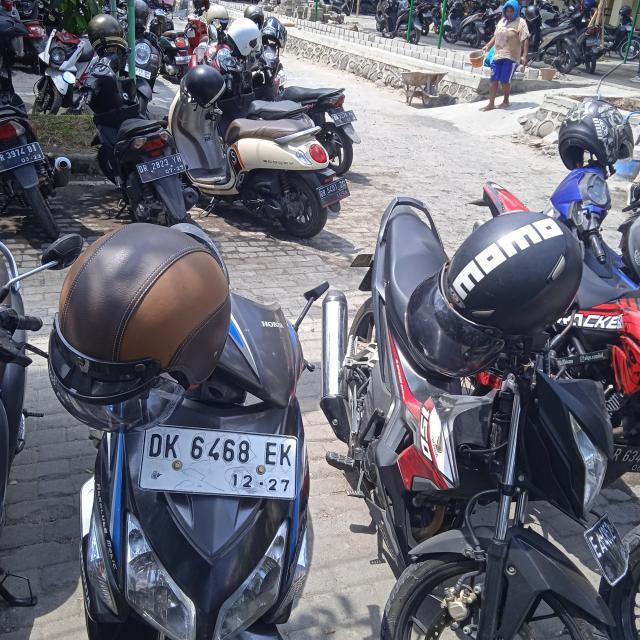plate: (140, 422, 298, 500), (134, 152, 187, 185), (0, 140, 46, 173), (316, 176, 350, 208)
